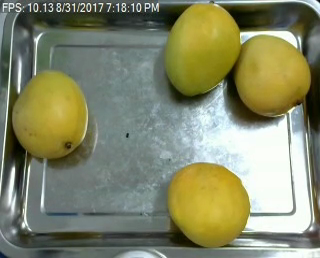Mango: (11, 68, 89, 160), (166, 3, 239, 96), (170, 161, 248, 243), (239, 32, 313, 113)
